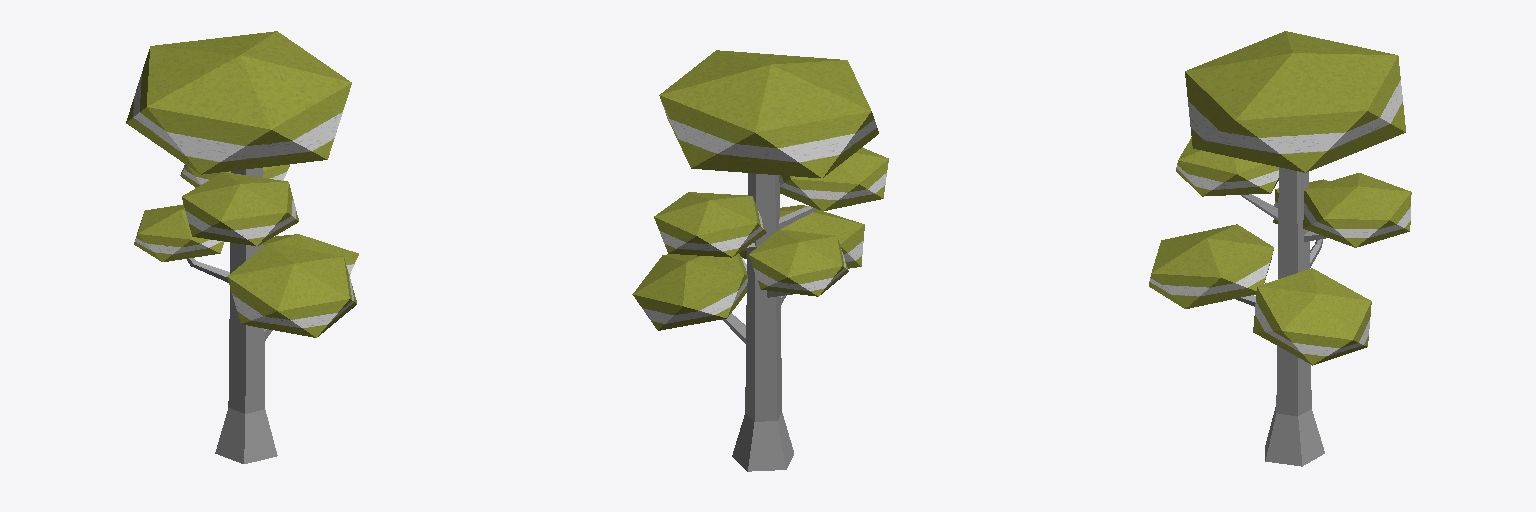
3 renders of one model, left to right at view 1: azimuth 30°, elevation 25°; view 2: azimuth 150°, elevation 25°; view 3: azimuth 270°, elevation 25°, orthographic.
Visible parts, largest first — view 1: Icosphere.004_Icosphere.015, Cylinder.003; view 2: Icosphere.004_Icosphere.015, Cylinder.003; view 3: Icosphere.004_Icosphere.015, Cylinder.003.
Boxes of the visible parts, box(x1,y1,x2,y2) form: Icosphere.004_Icosphere.015: box(126, 31, 358, 337); Cylinder.003: box(187, 168, 277, 463); Icosphere.004_Icosphere.015: box(632, 50, 888, 330); Cylinder.003: box(722, 173, 817, 471); Icosphere.004_Icosphere.015: box(1149, 31, 1411, 365); Cylinder.003: box(1236, 167, 1326, 466).
Bounding box in the file's own units: 1.82 × 3.24 × 1.94.
Materials: 2 (1 with a texture image).